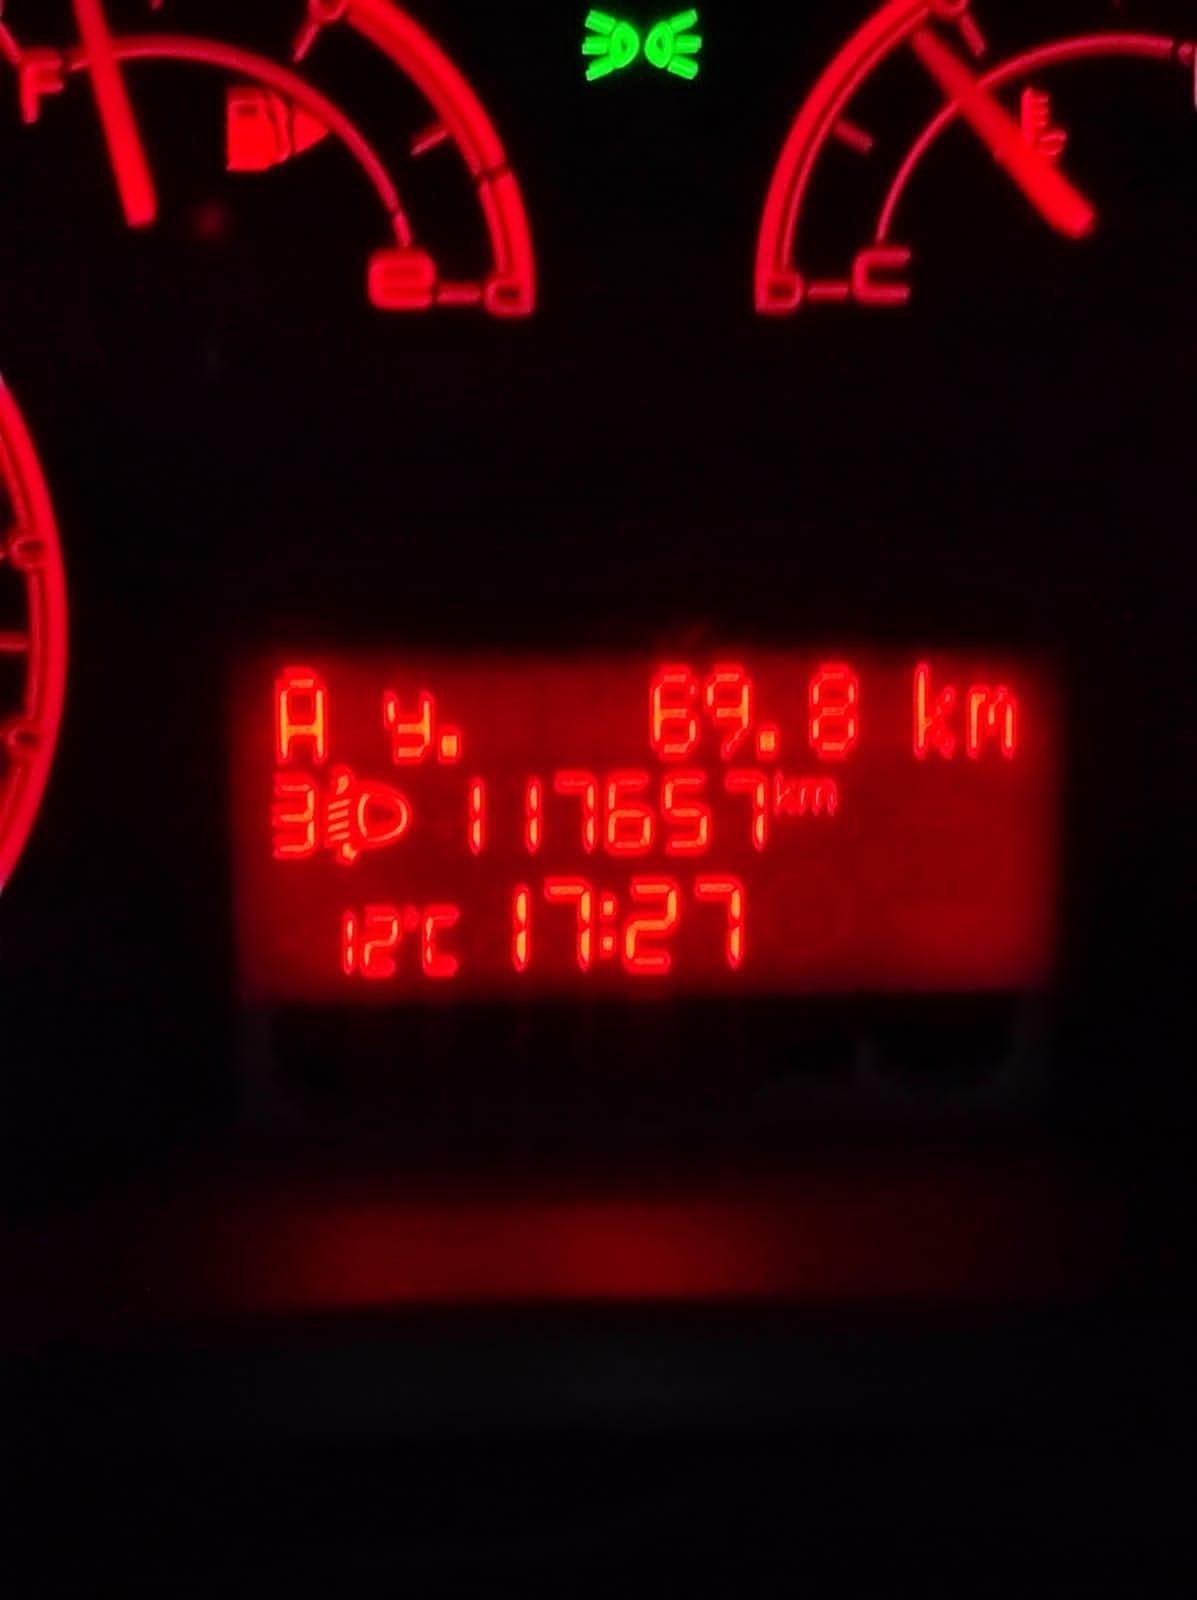,: (431, 720, 464, 769), (754, 716, 783, 764)
1: (500, 876, 533, 977), (460, 770, 493, 858), (513, 770, 547, 855), (328, 902, 357, 980)
2: (620, 868, 681, 984), (357, 897, 399, 985)
3: (267, 770, 318, 865)
5: (659, 764, 717, 858)
6: (636, 659, 703, 764), (605, 765, 656, 861)
7: (687, 868, 749, 977), (538, 868, 593, 978), (548, 765, 601, 858), (719, 765, 769, 858)
8: (801, 654, 864, 764)
9: (702, 659, 753, 764)
X: (267, 660, 331, 765), (903, 654, 961, 765), (962, 677, 1023, 765), (377, 682, 431, 770), (419, 897, 464, 985), (798, 773, 840, 819), (595, 887, 617, 965), (771, 764, 798, 819)
odometer: (218, 631, 1074, 1014)
